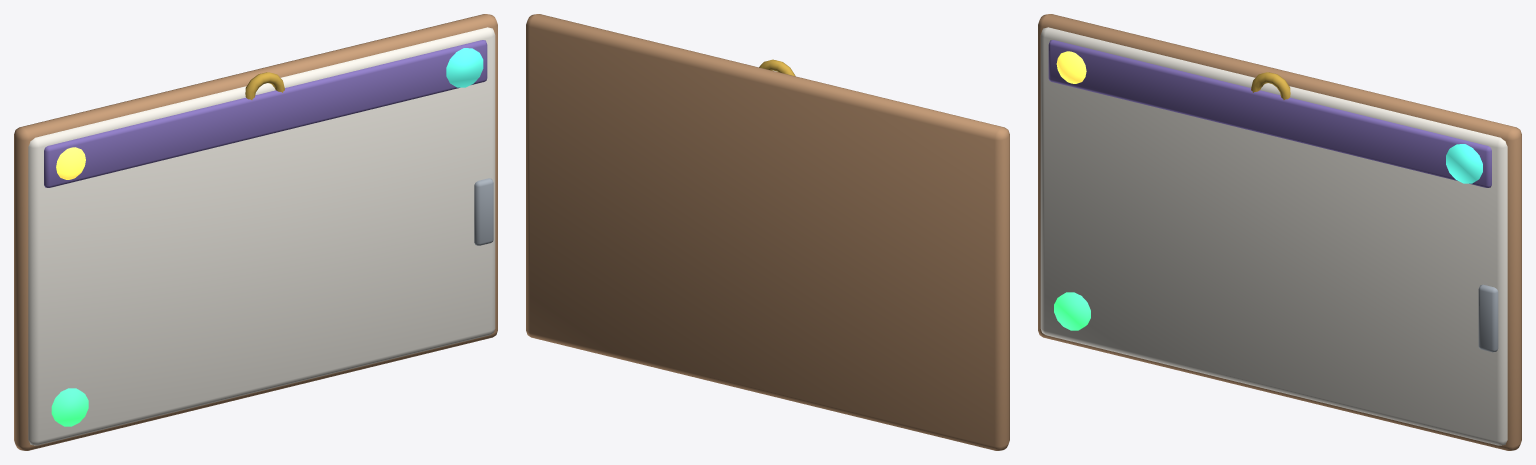
The model's file is TaskCard_Grabbable.fbx.
The picture shows the model from 3 angles, left to right: view 1: azimuth 30°, elevation 25°; view 2: azimuth 150°, elevation 25°; view 3: azimuth 330°, elevation 25°; orthographic projection.
Parts seen in each view (by area): view 1: Card_Body, Card_RoleHeaderStrip, Card_BorderFrame, Card_AttachmentClip, Card_OwnerIndicator, Card_StatusMarker, Card_PriorityIndicator, Card_PinRing; view 2: Card_BorderFrame; view 3: Card_Body, Card_RoleHeaderStrip, Card_BorderFrame, Card_AttachmentClip, Card_OwnerIndicator, Card_StatusMarker, Card_PriorityIndicator, Card_PinRing.
Part boxes in pixels (box(x1,y1,x2,y2)): Card_Body: box(28, 27, 495, 445); Card_RoleHeaderStrip: box(44, 40, 487, 187); Card_BorderFrame: box(14, 14, 497, 450); Card_AttachmentClip: box(474, 178, 493, 245); Card_OwnerIndicator: box(446, 48, 483, 87); Card_StatusMarker: box(51, 388, 88, 426); Card_PriorityIndicator: box(56, 147, 85, 179); Card_PinRing: box(245, 72, 284, 99); Card_BorderFrame: box(526, 14, 1009, 450); Card_Body: box(1040, 27, 1507, 445); Card_RoleHeaderStrip: box(1048, 40, 1491, 187); Card_BorderFrame: box(1038, 14, 1521, 450); Card_AttachmentClip: box(1478, 284, 1498, 352); Card_OwnerIndicator: box(1446, 144, 1482, 183); Card_StatusMarker: box(1054, 292, 1090, 330); Card_PriorityIndicator: box(1056, 51, 1086, 83); Card_PinRing: box(1251, 72, 1290, 99).
Bounding box in the file's own units: 7.8 × 5.07 × 0.58.
